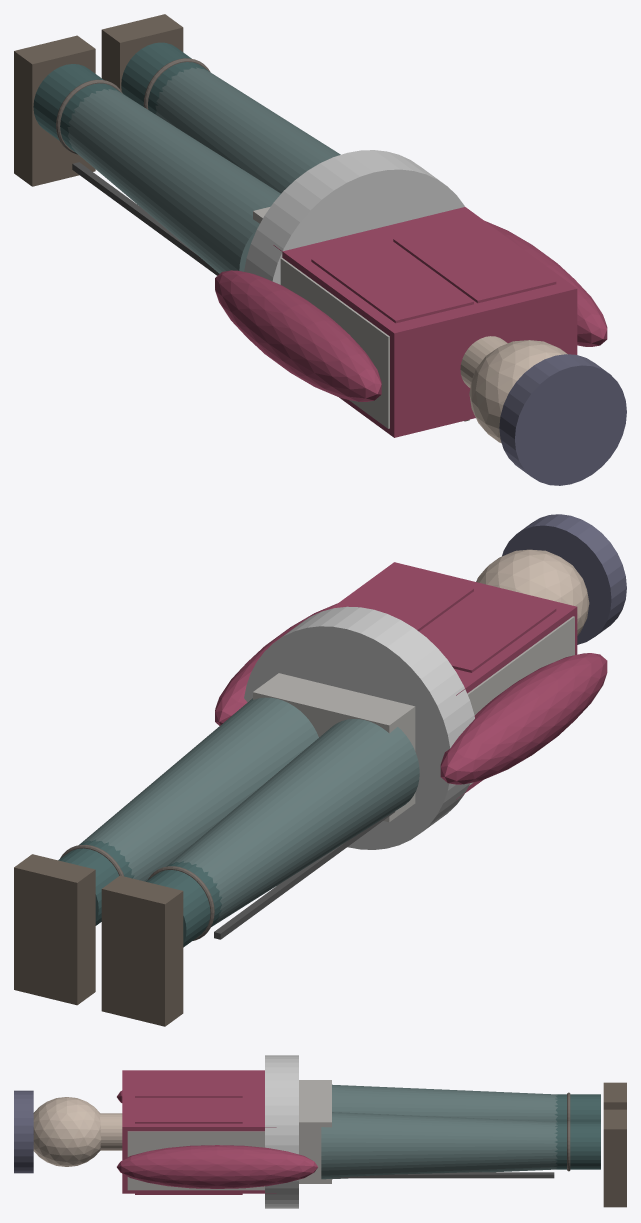
Rendered from MASTER_168_STAGE3_DETAIL.glb.
3 views of the same model, one above another, from view 1: azimuth 30°, elevation 25°; view 2: azimuth 150°, elevation 25°; view 3: azimuth 270°, elevation 25° (orthographic). The views are drawn at different scales.
Visible parts, largest first — view 1: slot_upper_inner__këmishë, slot_lower_main__tirq_L, slot_waist__brez, slot_headwear__mbulesë_koke, slot_upper_inner_sleeve_L, slot_lower_main__tirq_R, slot_upper_outer__xhamadan_R, slot_upper_outer__xhamadan_L, slot_footwear__opinga_L, mannequin_torso, mannequin_head, slot_footwear__opinga_R (+5 smaller); view 2: slot_lower_main__tirq_L, slot_waist__brez, slot_lower_main__tirq_R, slot_footwear__opinga_L, slot_footwear__opinga_R, slot_upper_inner_sleeve_L, slot_headwear__mbulesë_koke, slot_upper_outer__xhamadan_L, mannequin_hips, mannequin_head, slot_upper_inner__këmishë, slot_upper_outer__xhamadan_R (+5 smaller); view 3: slot_lower_main__tirq_R, slot_upper_inner_sleeve_R, slot_lower_main__tirq_L, slot_upper_inner__këmishë, slot_waist__brez, mannequin_head, slot_upper_outer__xhamadan_R, mannequin_torso, slot_upper_outer__xhamadan_L, mannequin_hips, slot_footwear__opinga_R, slot_legwear__çorape_R (+5 smaller).
Part boxes in pixels (box(x1,y1,x2,y2)): slot_upper_inner__këmishë: box(273, 207, 577, 437); slot_lower_main__tirq_L: box(67, 89, 280, 273); slot_waist__brez: box(244, 150, 464, 284); slot_headwear__mbulesë_koke: box(499, 354, 626, 485); slot_upper_inner_sleeve_L: box(215, 270, 381, 401); slot_lower_main__tirq_R: box(155, 67, 340, 193); slot_upper_outer__xhamadan_R: box(393, 220, 556, 303); slot_upper_outer__xhamadan_L: box(311, 240, 473, 323); slot_footwear__opinga_L: box(14, 35, 95, 186); mannequin_torso: box(280, 258, 389, 428); mannequin_head: box(469, 340, 567, 443); slot_footwear__opinga_R: box(101, 14, 183, 90); slot_lower_main__tirq_L: box(167, 719, 419, 925); slot_waist__brez: box(244, 606, 474, 849); slot_lower_main__tirq_R: box(79, 697, 318, 881); slot_footwear__opinga_L: box(101, 875, 183, 1026); slot_footwear__opinga_R: box(14, 854, 95, 1005); slot_upper_inner_sleeve_L: box(440, 653, 607, 784); slot_headwear__mbulesë_koke: box(502, 514, 626, 644); slot_upper_outer__xhamadan_L: box(420, 589, 556, 672); mannequin_hips: box(253, 673, 415, 822); mannequin_head: box(476, 549, 589, 635); slot_upper_inner__këmishë: box(330, 562, 577, 799); slot_upper_outer__xhamadan_R: box(345, 569, 473, 631); slot_lower_main__tirq_R: box(321, 1112, 557, 1179); slot_upper_inner_sleeve_R: box(117, 1145, 317, 1188); slot_lower_main__tirq_L: box(332, 1084, 557, 1121); slot_upper_inner__këmishë: box(122, 1070, 276, 1193); slot_waist__brez: box(265, 1055, 298, 1208); mannequin_head: box(33, 1097, 101, 1166); slot_upper_outer__xhamadan_R: box(135, 1097, 242, 1194); mannequin_torso: box(127, 1131, 264, 1190); slot_upper_outer__xhamadan_L: box(135, 1072, 242, 1097); mannequin_hips: box(299, 1080, 331, 1183); slot_footwear__opinga_R: box(603, 1109, 626, 1207); slot_legwear__çorape_R: box(554, 1121, 600, 1169).
Bounding box in the file's own units: 0.5861 × 0.4272 × 1.71.
